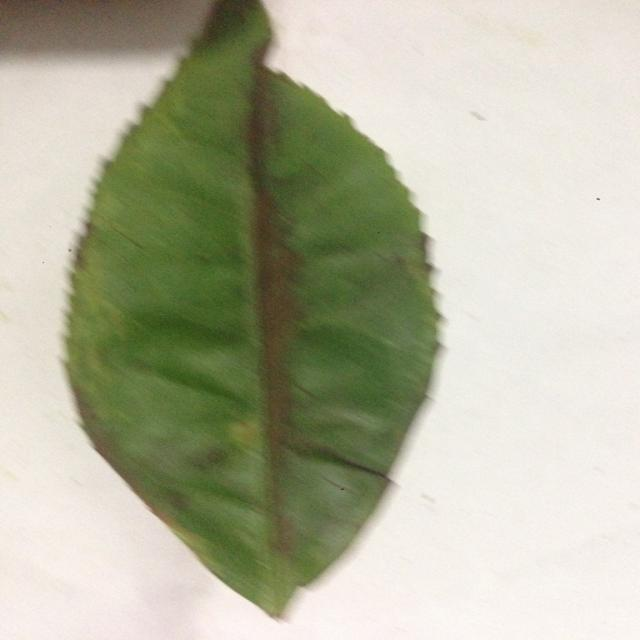Red Leaf Spot: (65, 0, 461, 623)
